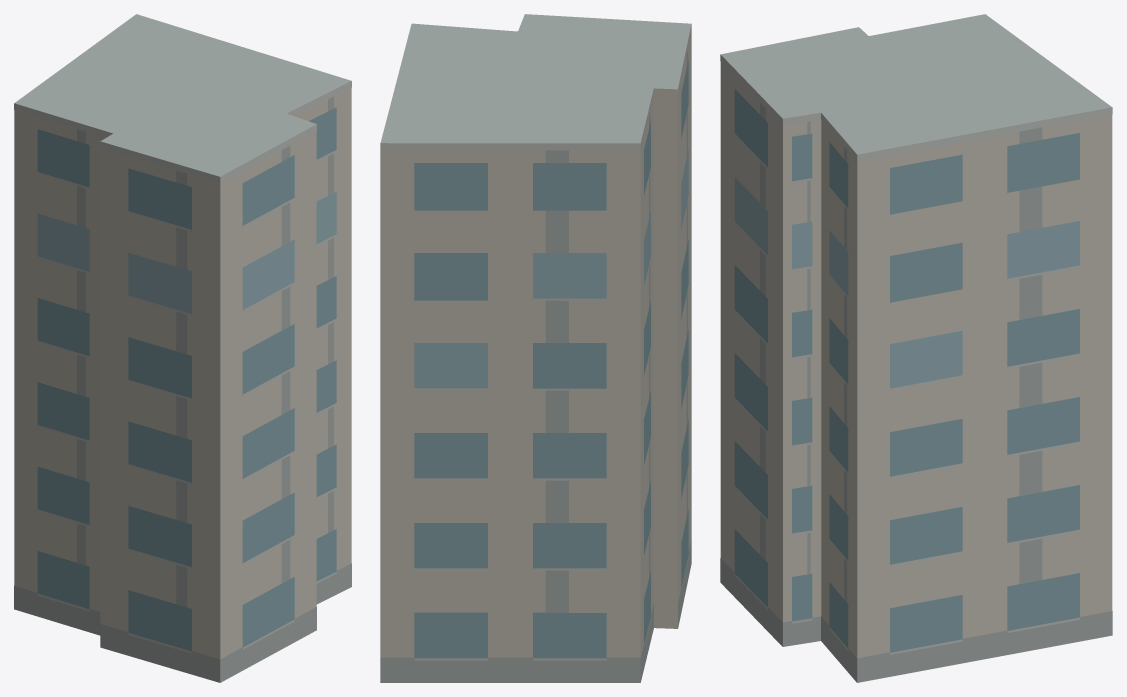
Rendered from survey-upis-33047349.glb.
3 renders of one model, left to right at view 1: azimuth 30°, elevation 25°; view 2: azimuth 150°, elevation 25°; view 3: azimuth 270°, elevation 25°, orthographic. The views are drawn at different scales.
Visible parts, largest first — view 1: survey-upis-33047349.tmp; view 2: survey-upis-33047349.tmp; view 3: survey-upis-33047349.tmp.
Part boxes in pixels (x1,y1,x2,y2): survey-upis-33047349.tmp: (14,14,351,682); survey-upis-33047349.tmp: (380,14,691,682); survey-upis-33047349.tmp: (720,14,1112,682).
Bounding box in the file's own units: 10.46 × 18.3 × 12.31.
